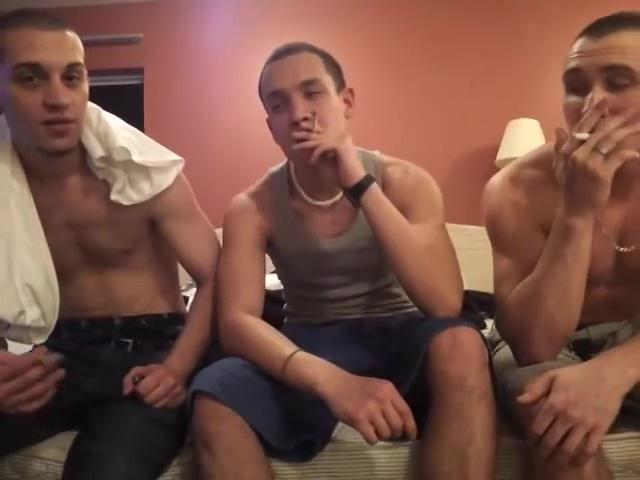cigarette: (312, 106, 321, 132), (570, 132, 599, 139)
